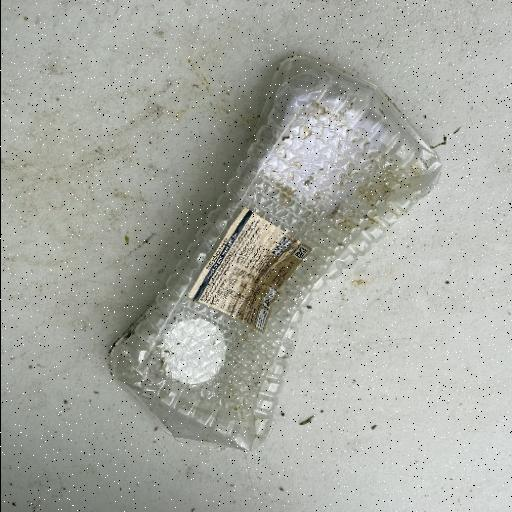Plastic: (106, 52, 444, 454)
